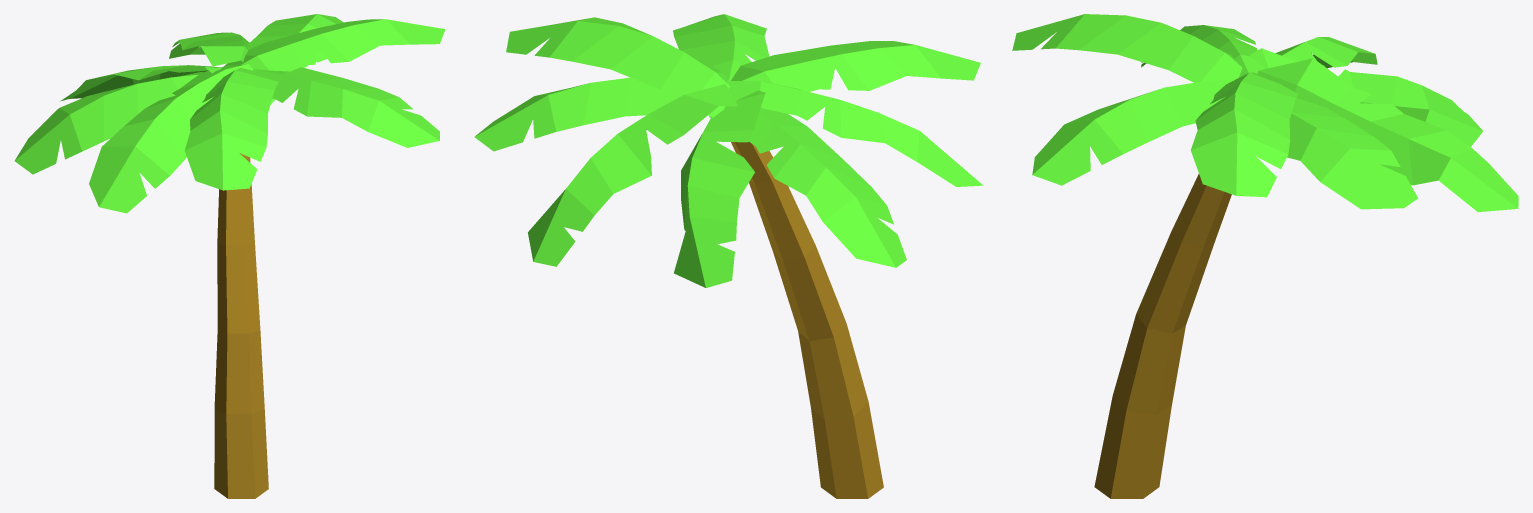
File: palmTree.gltf
3 renders of one model, left to right at view 1: azimuth 30°, elevation 25°; view 2: azimuth 150°, elevation 25°; view 3: azimuth 270°, elevation 25°, orthographic. The views are drawn at different scales.
Visible parts, largest first — view 1: Cylinder, Plane.006, Plane.004, Plane.007, Plane.005, Plane, Plane.003, Plane.002, Plane.001; view 2: Cylinder, Plane.005, Plane.003, Plane.002, Plane, Plane.004, Plane.006, Plane.001, Plane.007; view 3: Cylinder, Plane.002, Plane, Plane.007, Plane.001, Plane.004, Plane.003, Plane.005, Plane.006.
Boxes of the visible parts, bbox=[...] form: Cylinder: bbox=[214, 153, 268, 498]; Plane.006: bbox=[89, 63, 253, 213]; Plane.004: bbox=[184, 68, 278, 190]; Plane.007: bbox=[253, 67, 439, 147]; Plane.005: bbox=[14, 72, 202, 174]; Plane: bbox=[224, 19, 445, 71]; Plane.003: bbox=[60, 65, 221, 101]; Plane.002: bbox=[169, 32, 249, 66]; Plane.001: bbox=[247, 14, 343, 104]; Cylinder: bbox=[731, 141, 883, 498]; Plane.005: bbox=[709, 108, 906, 267]; Plane.003: bbox=[674, 90, 766, 287]; Plane.002: bbox=[528, 84, 737, 266]; Plane: bbox=[506, 17, 729, 117]; Plane.004: bbox=[731, 41, 980, 91]; Plane.006: bbox=[725, 81, 983, 186]; Plane.001: bbox=[474, 77, 675, 151]; Plane.007: bbox=[673, 14, 769, 80]; Cylinder: bbox=[1094, 174, 1231, 498]; Plane.002: bbox=[1257, 58, 1518, 212]; Plane: bbox=[1190, 72, 1297, 197]; Plane.007: bbox=[1032, 78, 1236, 185]; Plane.001: bbox=[1287, 98, 1417, 209]; Plane.004: bbox=[1012, 14, 1242, 82]; Plane.003: bbox=[1250, 48, 1483, 146]; Plane.005: bbox=[1275, 37, 1377, 68]; Plane.006: bbox=[1141, 25, 1265, 77].
Bounding box in the file's own units: 2.03 × 1.99 × 1.95.
